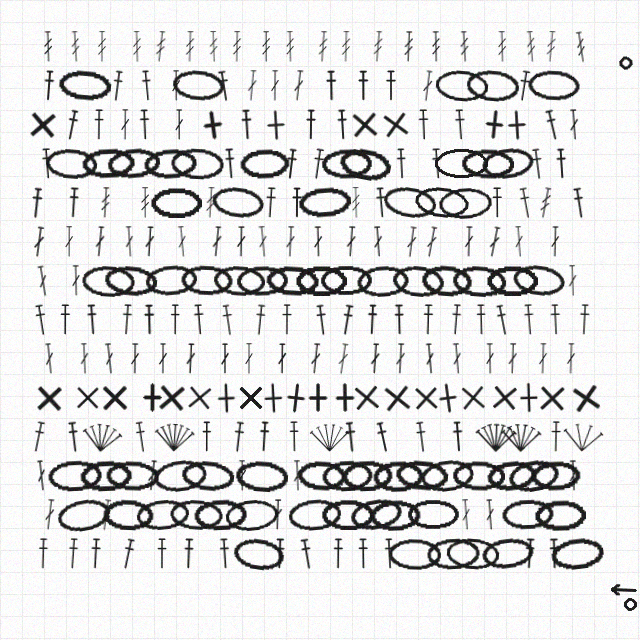chain: (55, 495, 113, 535), (337, 144, 393, 184), (381, 183, 438, 222), (348, 495, 405, 534), (506, 456, 562, 495), (231, 535, 287, 573), (413, 184, 470, 221), (152, 457, 209, 494), (480, 145, 536, 182), (419, 457, 475, 494), (480, 535, 536, 572), (549, 535, 605, 572), (210, 184, 265, 221), (511, 262, 566, 299), (103, 263, 158, 299), (391, 263, 446, 299), (180, 458, 235, 494), (135, 497, 190, 533), (224, 497, 279, 533), (465, 68, 521, 103), (287, 497, 343, 532), (445, 536, 501, 571), (485, 458, 539, 494), (57, 68, 112, 103), (171, 68, 226, 103), (434, 68, 489, 103), (106, 146, 161, 181), (297, 185, 352, 220), (394, 458, 449, 493), (451, 264, 507, 298), (144, 263, 198, 298), (420, 263, 474, 298), (234, 459, 289, 493), (169, 498, 224, 532), (44, 147, 98, 181), (143, 147, 197, 181), (438, 186, 492, 220), (81, 264, 135, 298), (212, 264, 266, 298), (265, 264, 319, 298), (47, 459, 102, 492), (426, 537, 481, 570), (356, 264, 409, 298), (527, 69, 581, 102), (81, 147, 135, 180), (170, 147, 224, 180), (180, 264, 234, 297), (193, 498, 247, 531), (501, 498, 555, 531), (296, 459, 348, 493), (79, 459, 132, 492), (321, 459, 374, 492), (341, 459, 394, 492), (102, 498, 155, 531), (105, 460, 159, 492), (388, 538, 442, 570), (461, 148, 514, 180), (236, 265, 289, 297), (372, 460, 425, 492), (452, 460, 505, 492), (369, 499, 422, 531), (434, 148, 488, 179), (239, 148, 291, 180), (321, 148, 373, 180), (530, 460, 582, 492), (534, 499, 586, 531), (320, 265, 373, 296), (321, 499, 374, 530), (407, 499, 460, 530), (150, 187, 202, 218), (295, 265, 347, 296), (486, 265, 538, 296)
double: (424, 226, 439, 258), (487, 226, 502, 258), (32, 226, 46, 258), (36, 265, 50, 297), (336, 343, 350, 375), (99, 499, 113, 531), (421, 70, 434, 102), (405, 226, 418, 258), (292, 70, 305, 101), (43, 343, 56, 374), (103, 343, 116, 374), (309, 343, 322, 374), (35, 460, 48, 491), (146, 460, 159, 491), (43, 499, 56, 530), (246, 70, 258, 101), (568, 109, 580, 140), (94, 226, 106, 257), (176, 226, 188, 257), (211, 226, 223, 257), (257, 226, 269, 257), (345, 226, 357, 257), (372, 226, 384, 257), (513, 226, 525, 257), (369, 343, 381, 374), (424, 343, 436, 374), (451, 343, 463, 374), (460, 499, 472, 530), (484, 499, 496, 530), (124, 226, 135, 257), (144, 226, 155, 257), (285, 226, 296, 257), (567, 265, 578, 296), (79, 343, 90, 374), (185, 343, 196, 374), (395, 343, 406, 374), (507, 343, 518, 374), (292, 460, 303, 491), (568, 460, 579, 491), (272, 499, 283, 530), (171, 70, 181, 101), (270, 70, 280, 101), (120, 109, 130, 140), (174, 109, 184, 140), (64, 226, 74, 257), (236, 226, 246, 257), (313, 226, 323, 257), (464, 226, 474, 257), (550, 226, 560, 257), (71, 265, 81, 296), (130, 343, 140, 374), (158, 343, 168, 374), (220, 343, 230, 374), (244, 343, 254, 374), (277, 343, 287, 374), (485, 343, 495, 374), (538, 343, 548, 374), (566, 343, 576, 374), (237, 460, 247, 491)
fan: (80, 419, 124, 455), (561, 419, 605, 454), (153, 420, 196, 453), (475, 421, 517, 453), (500, 421, 542, 453), (309, 421, 350, 452)
half_double: (543, 109, 561, 141), (374, 421, 392, 453), (119, 538, 137, 570), (517, 187, 534, 219), (494, 304, 511, 336), (30, 421, 47, 453), (298, 538, 315, 570), (216, 70, 232, 102), (516, 70, 532, 102), (64, 109, 80, 141), (310, 148, 326, 180), (571, 187, 587, 219), (33, 304, 49, 336), (220, 304, 236, 336), (339, 304, 355, 336), (133, 421, 149, 453), (110, 70, 125, 102), (284, 148, 299, 180), (530, 148, 545, 180), (29, 187, 44, 219), (314, 304, 329, 336), (66, 421, 81, 453), (231, 421, 246, 453), (343, 421, 358, 453), (414, 421, 429, 453), (253, 304, 267, 336), (42, 70, 56, 101), (453, 109, 467, 140), (40, 148, 54, 179), (223, 148, 237, 179), (430, 148, 444, 179), (374, 187, 388, 218), (85, 304, 99, 335), (120, 304, 134, 335), (192, 304, 206, 335), (449, 304, 463, 335), (522, 304, 536, 335), (451, 421, 465, 452), (66, 538, 80, 569), (140, 70, 153, 101), (138, 109, 151, 140), (240, 109, 253, 140), (336, 109, 349, 140), (417, 109, 430, 140), (395, 148, 408, 179), (555, 148, 568, 179), (67, 187, 80, 218), (264, 187, 277, 218), (549, 304, 562, 335), (578, 304, 591, 335), (89, 538, 102, 569), (182, 538, 195, 569), (218, 538, 231, 569), (273, 538, 286, 569), (383, 538, 396, 569), (523, 538, 536, 569), (325, 70, 337, 101), (357, 70, 369, 101), (385, 70, 397, 101), (93, 109, 105, 140), (305, 109, 317, 140), (291, 187, 303, 218), (491, 187, 503, 218), (59, 304, 71, 335), (143, 304, 155, 335), (169, 304, 181, 335), (281, 304, 293, 335), (366, 304, 378, 335), (393, 304, 405, 335), (422, 304, 434, 335), (475, 304, 487, 335), (258, 421, 270, 452), (288, 421, 300, 452), (550, 421, 562, 452), (37, 538, 49, 569), (156, 538, 168, 569), (332, 538, 344, 569), (357, 538, 369, 569), (548, 538, 560, 569), (201, 421, 212, 452)
noise: (608, 584, 637, 596), (617, 54, 635, 72), (622, 596, 638, 612)
single: (568, 380, 604, 416), (378, 107, 413, 142), (196, 108, 230, 142), (279, 381, 313, 415), (380, 381, 414, 415), (431, 381, 465, 415), (26, 108, 59, 141), (348, 108, 381, 141), (478, 108, 511, 141), (155, 381, 188, 414), (183, 381, 216, 414), (350, 381, 383, 414), (488, 381, 521, 414), (457, 381, 489, 414), (260, 109, 292, 141), (501, 109, 533, 141), (33, 382, 65, 414), (210, 382, 242, 414), (257, 382, 289, 414), (410, 382, 442, 414), (536, 382, 568, 414), (72, 382, 103, 413), (99, 382, 130, 413), (137, 382, 168, 413), (235, 382, 266, 413), (302, 382, 333, 413), (329, 382, 360, 413), (513, 382, 544, 413)
treble: (538, 187, 553, 219), (574, 31, 588, 63), (154, 31, 167, 62), (317, 31, 329, 62), (372, 31, 384, 62), (525, 31, 537, 62), (545, 31, 557, 62), (70, 31, 81, 62), (208, 31, 219, 62), (403, 31, 414, 62), (459, 31, 470, 62), (100, 187, 111, 218), (205, 187, 216, 218), (43, 31, 53, 62), (97, 31, 107, 62), (132, 31, 142, 62), (185, 31, 195, 62), (232, 31, 242, 62), (261, 31, 271, 62), (285, 31, 295, 62), (341, 31, 351, 62), (431, 31, 441, 62), (497, 31, 507, 62), (140, 187, 150, 218), (351, 187, 361, 218)
